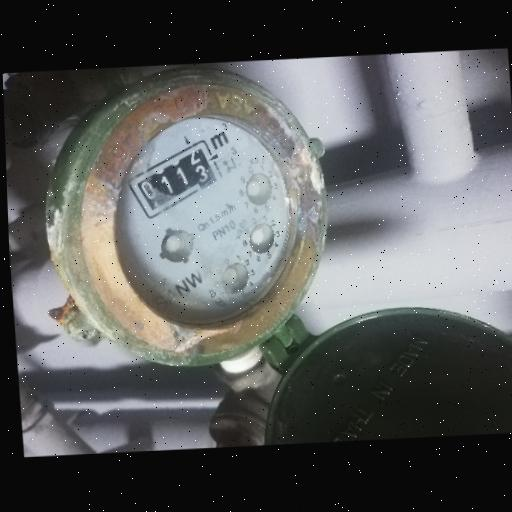0: (135, 174, 167, 212)
1: (150, 165, 185, 203), (166, 155, 199, 193)
2: (185, 146, 218, 190)
border_water_meter_number: (123, 136, 229, 221)
